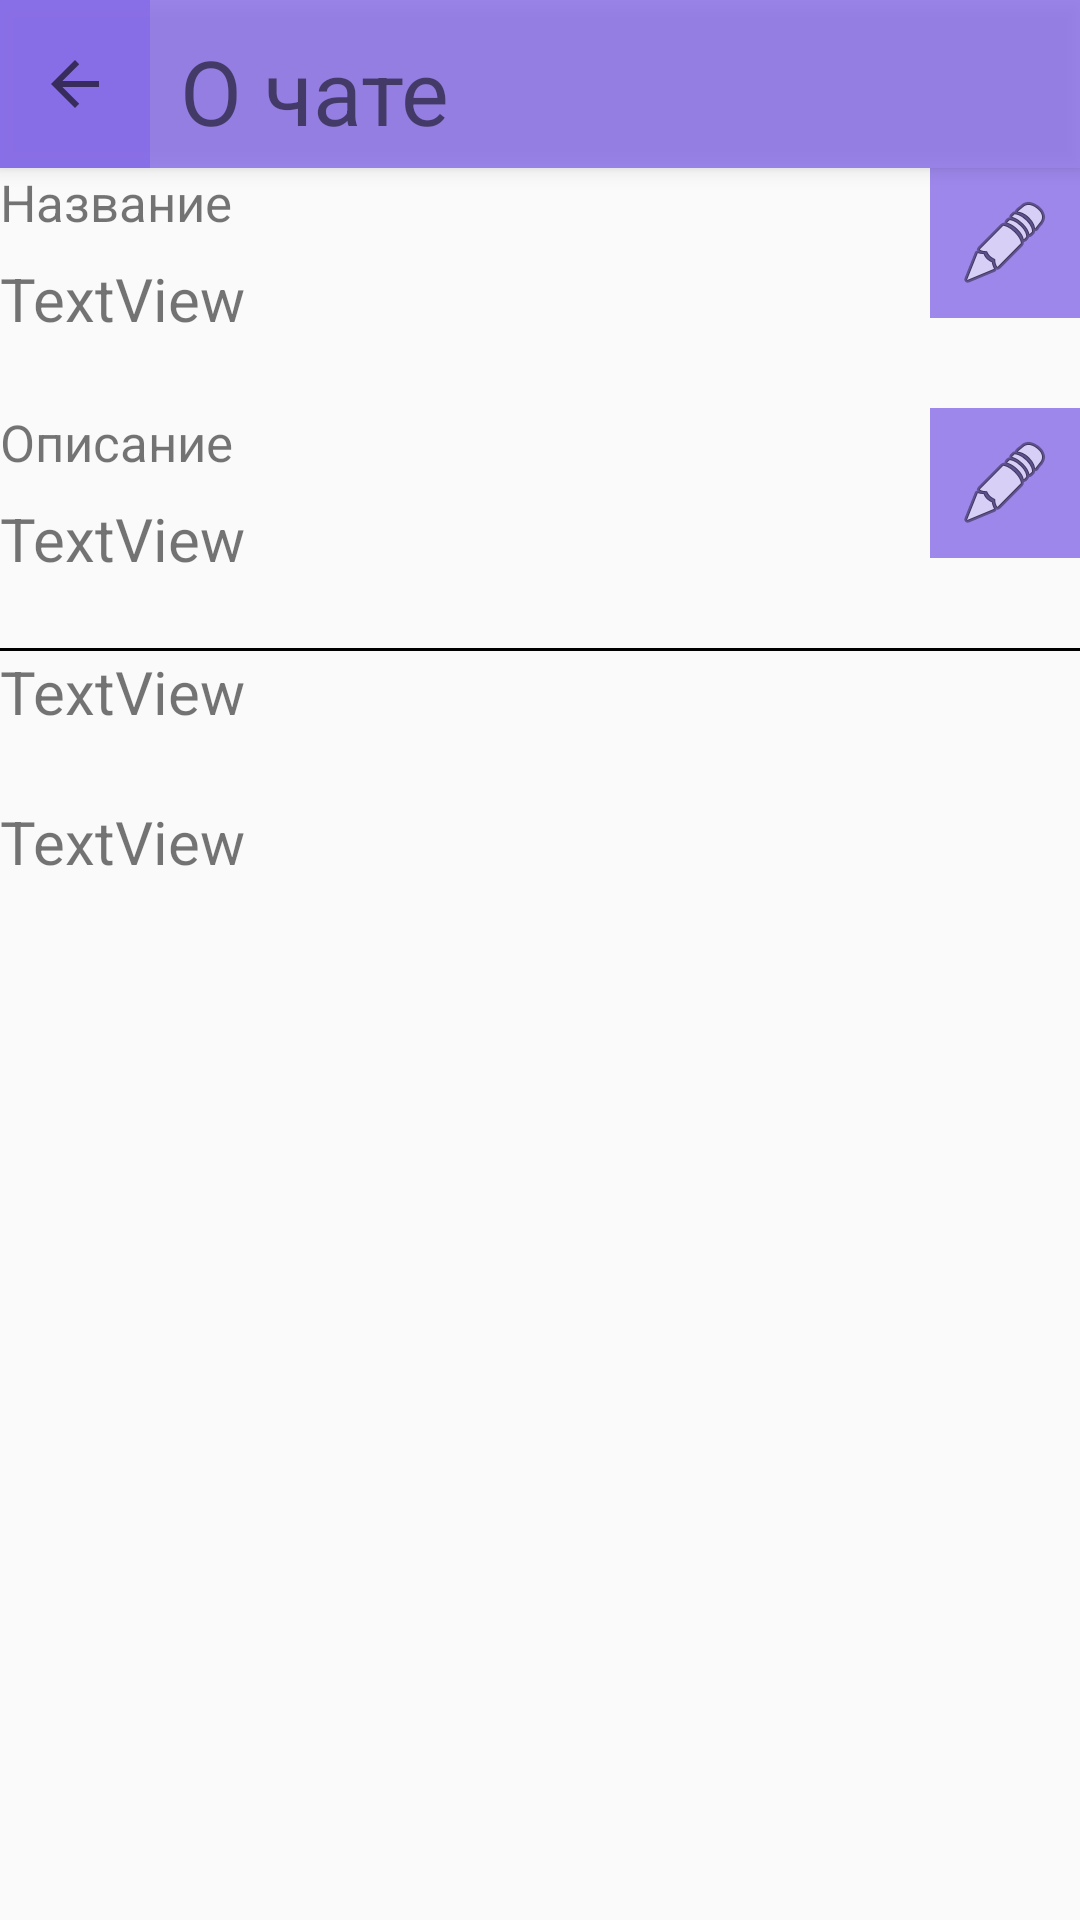

Where icons sit on this 1080×1920 app screen, as bbox=[x1, y1, x2, y2]:
edit: bbox=[964, 202, 1045, 283], bbox=[930, 408, 1080, 558]
